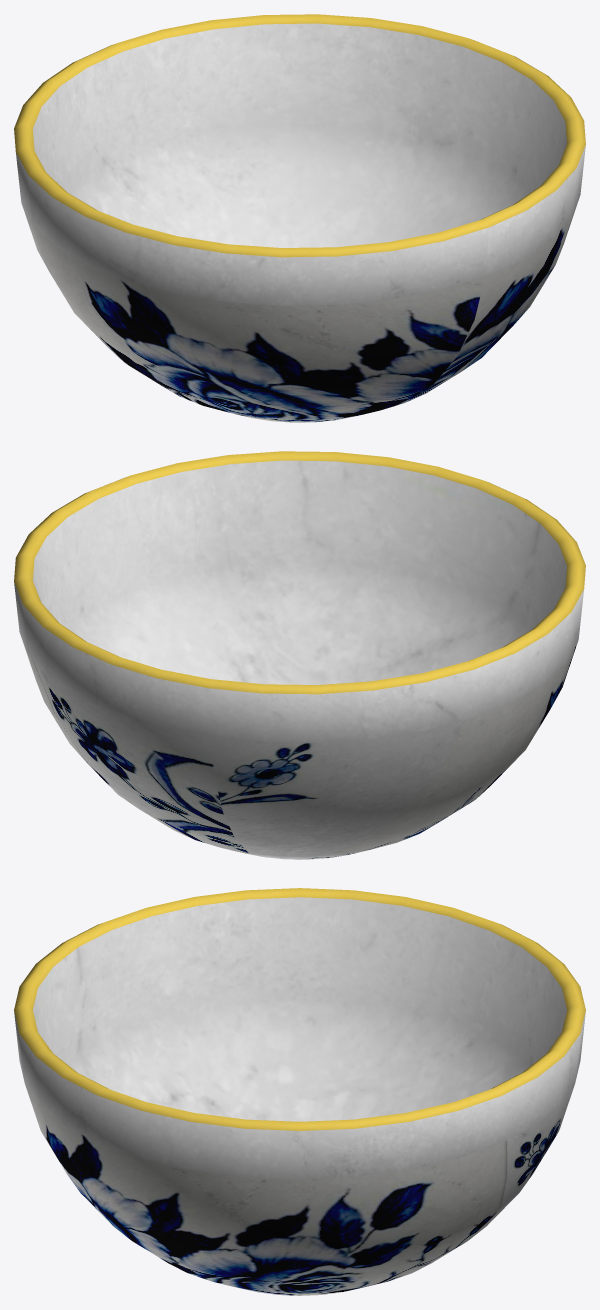
Rendered from bowl.fbx.
3 renders of one model, top to bottom at view 1: azimuth 30°, elevation 25°; view 2: azimuth 150°, elevation 25°; view 3: azimuth 270°, elevation 25°, orthographic.
Parts seen in each view (by area): view 1: Sphere; view 2: Sphere; view 3: Sphere.
Part boxes in pixels (<box>): Sphere: <box>14,14,585,422</box>; Sphere: <box>14,451,585,859</box>; Sphere: <box>14,888,585,1295</box>.
Size of the model in its own units: 200 by 94.41 by 200.
